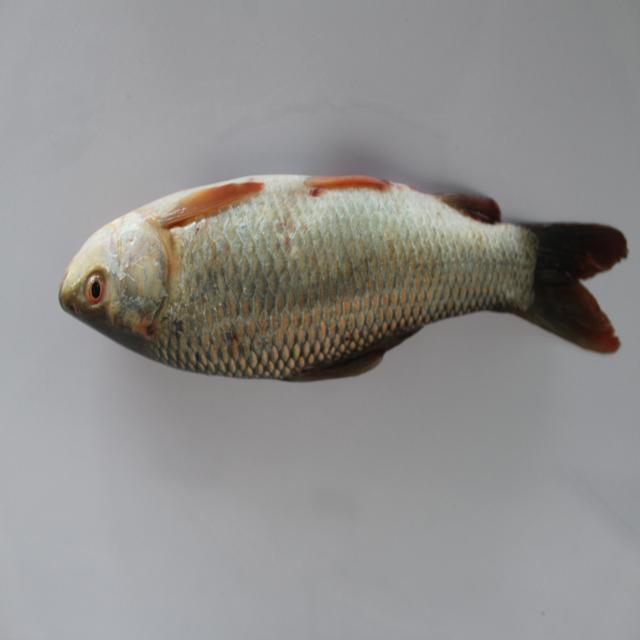Rohu: (54, 151, 633, 393)
